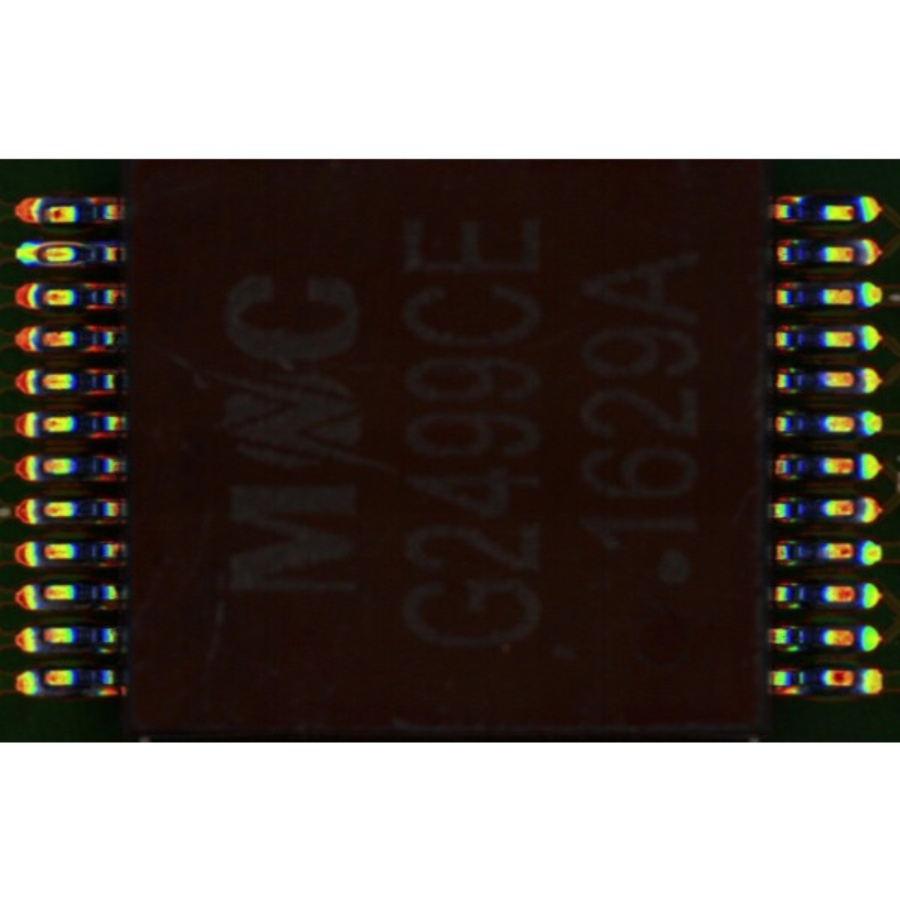Bad_qiaojiao: (37, 240, 89, 248), (38, 260, 84, 267)
